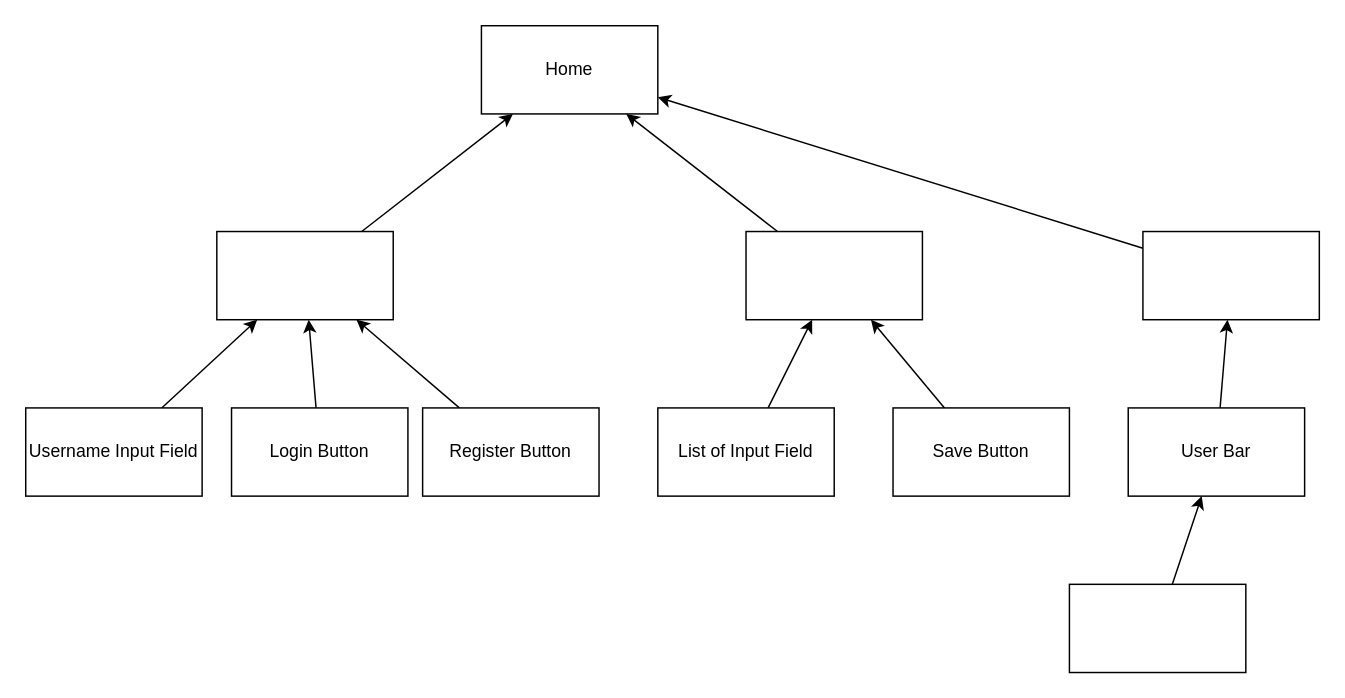
Some shapes in this 1345 by 698 pixel diagram are drawn without their labels. Here are the shapes that lost their labels. From the top down, the centre of each, then its label:
At point 304,275: "Login Widget".
At point 833,275: "Item Input Field".
At point 1230,275: "Item List View".
At point 1157,628: "Item View".
